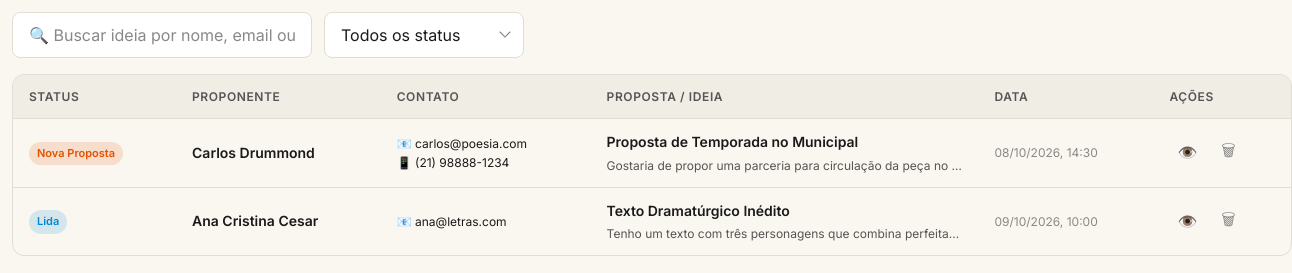
it: AbaIdeias Component › deve filtrar as ideias ao digitar no campo de busca
The width and height of the screenshot is (1292, 273).
Type "Drummond" into the field with placeholder "🔍 Buscar ideia por nome, email ou conteúdo...".
click(162, 35); type("Drummond")  # box [12,12,312,58]
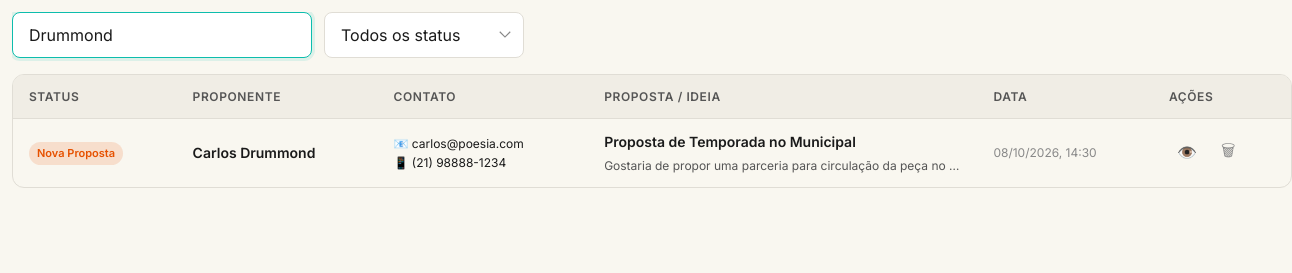
Expected: the text "Carlos Drummond" is shown, [193,144,315,161]
Expected: the text "Ana Cristina Cesar" is gone
